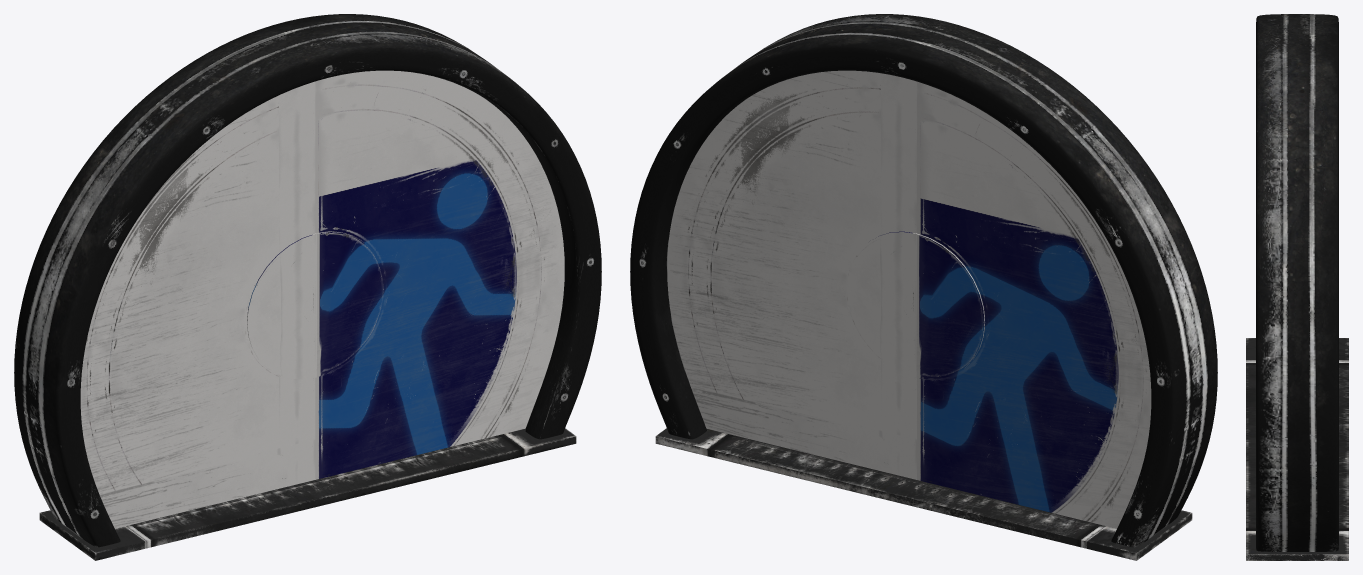
File: portaldoor.fbx
The picture shows the model from 3 angles, left to right: view 1: azimuth 30°, elevation 25°; view 2: azimuth 150°, elevation 25°; view 3: azimuth 270°, elevation 25°; orthographic projection. The views are drawn at different scales.
Parts seen in each view (by area): view 1: Door_Right_Doors_0, Door _Left_Doors_0, polySurface2_Base_0, polySurface1_Frame_0, Door_Left_Lock, Door_Right_Lock; view 2: Door_Right_Doors_0, Door _Left_Doors_0, polySurface2_Base_0, polySurface1_Frame_0, Door_Left_Lock, Door_Right_Lock; view 3: polySurface2_Base_0, polySurface1_Frame_0.
Part boxes in pixels (box(x1,y1,x2,y2)): Door_Right_Doors_0: box(315, 70, 564, 479); Door _Left_Doors_0: box(80, 81, 315, 528); polySurface2_Base_0: box(14, 14, 601, 547); polySurface1_Frame_0: box(39, 428, 576, 560); Door_Left_Lock: box(247, 233, 315, 379); Door_Right_Lock: box(316, 231, 384, 377); Door_Right_Doors_0: box(667, 70, 916, 479); Door _Left_Doors_0: box(917, 81, 1151, 528); polySurface2_Base_0: box(630, 14, 1217, 547); polySurface1_Frame_0: box(655, 428, 1192, 560); Door_Left_Lock: box(916, 233, 984, 379); Door_Right_Lock: box(847, 231, 915, 377); polySurface2_Base_0: box(1256, 14, 1338, 551); polySurface1_Frame_0: box(1246, 338, 1348, 560).
Size of the model in its own units: 11171 by 8692 by 1968.
Materials: 5 (4 with a texture image).
